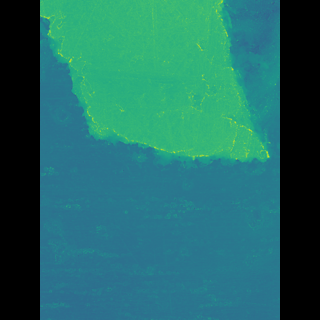Loch: (69, 0, 250, 183)
